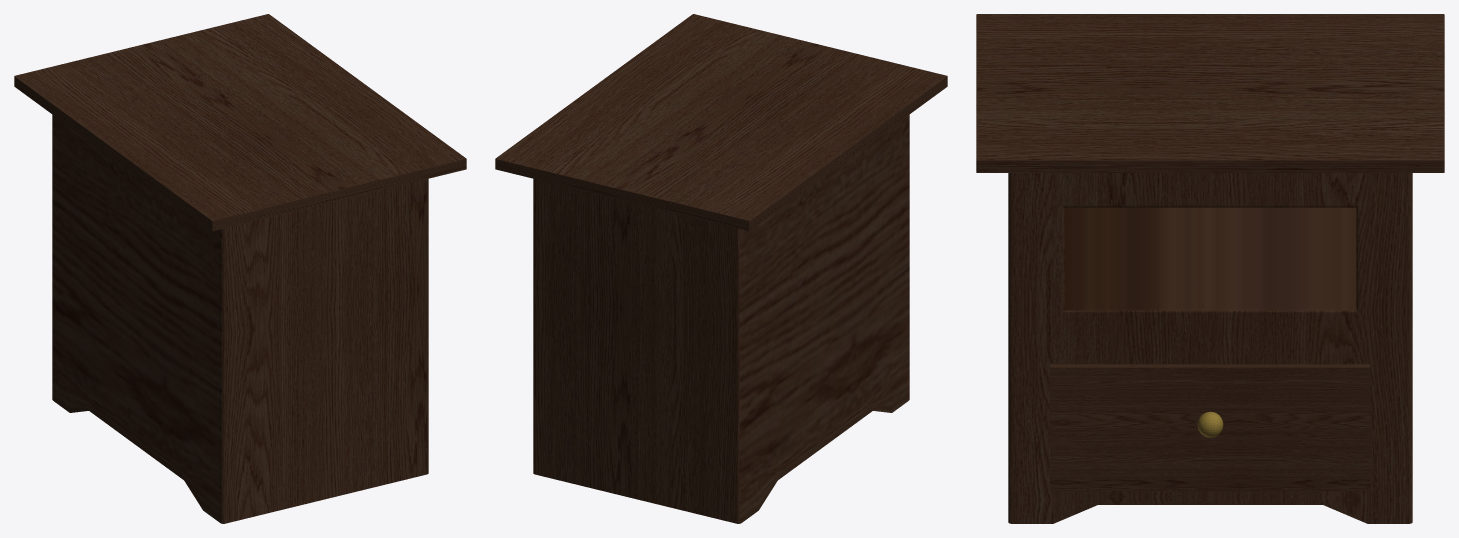
Rendered from buro.obj.
3 renders of one model, left to right at view 1: azimuth 30°, elevation 25°; view 2: azimuth 150°, elevation 25°; view 3: azimuth 270°, elevation 25°, orthographic. The views are drawn at different scales.
Visible parts, largest first — view 1: Cube, Cubo; view 2: Cube, Cubo; view 3: Cube, Cubo, Cubo.007, Esfera.
Part boxes in pixels (x1=…): Cube: x1=52, y1=114, x2=428, y2=523; Cubo: x1=14, y1=14, x2=466, y2=231; Cube: x1=533, y1=114, x2=909, y2=523; Cubo: x1=495, y1=14, x2=947, y2=231; Cube: x1=1008, y1=173, x2=1412, y2=523; Cubo: x1=976, y1=14, x2=1444, y2=172; Cubo.007: x1=1050, y1=364, x2=1370, y2=491; Esfera: x1=1197, y1=411, x2=1223, y2=437.
Size of the model in its own units: 1.72 by 2.06 by 2.32.
8 materials, 8 textured.
